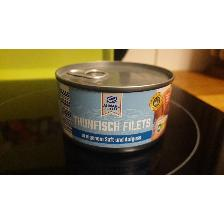Fisch: (54, 60, 176, 156)
